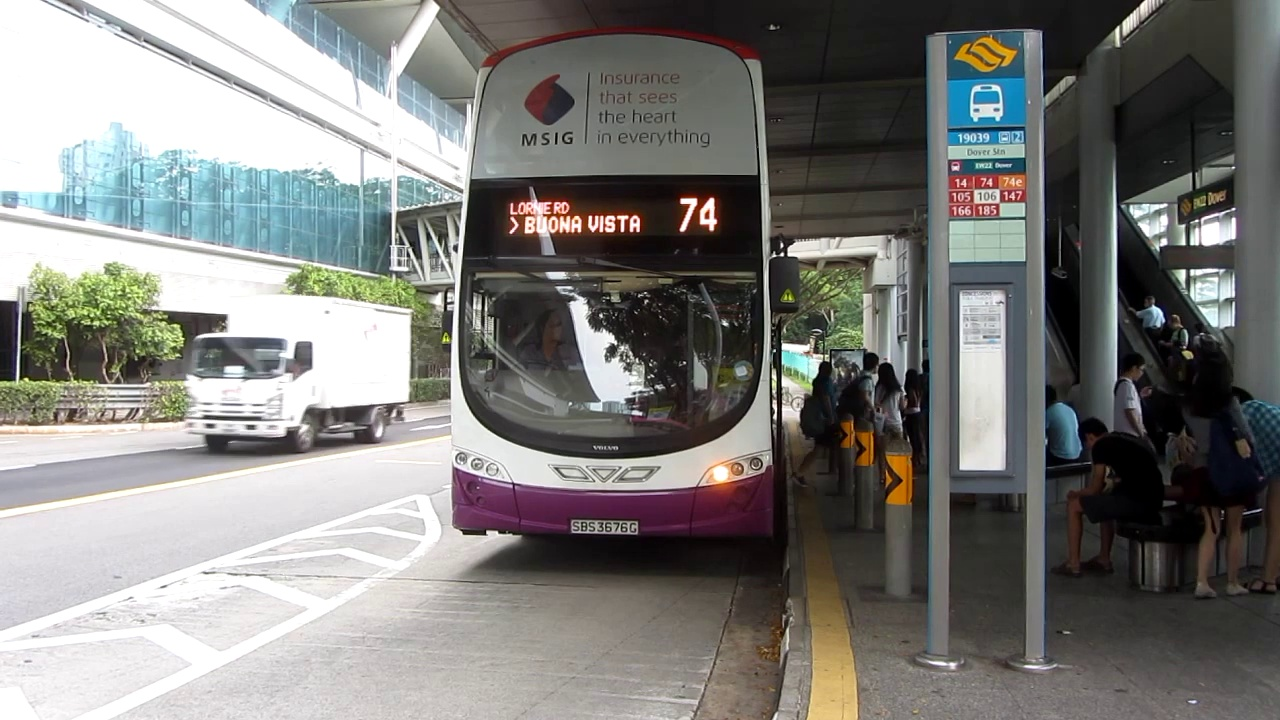bus panel: (503, 194, 722, 237)
